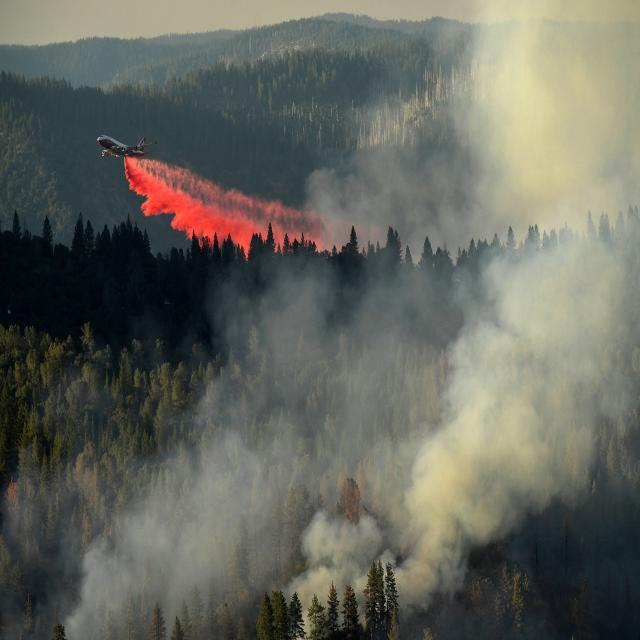Smoke: (303, 0, 640, 624), (62, 272, 327, 640)
